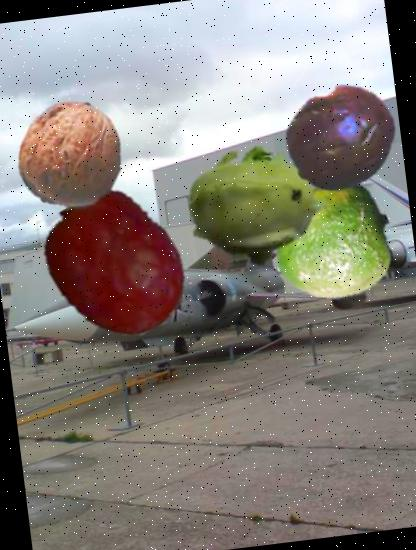Grape: (32, 183, 198, 349)
Kohlrabi: (179, 127, 338, 286)
Limes: (264, 174, 400, 310)
Passion: (278, 73, 407, 202)
Walnut: (10, 93, 134, 217)
